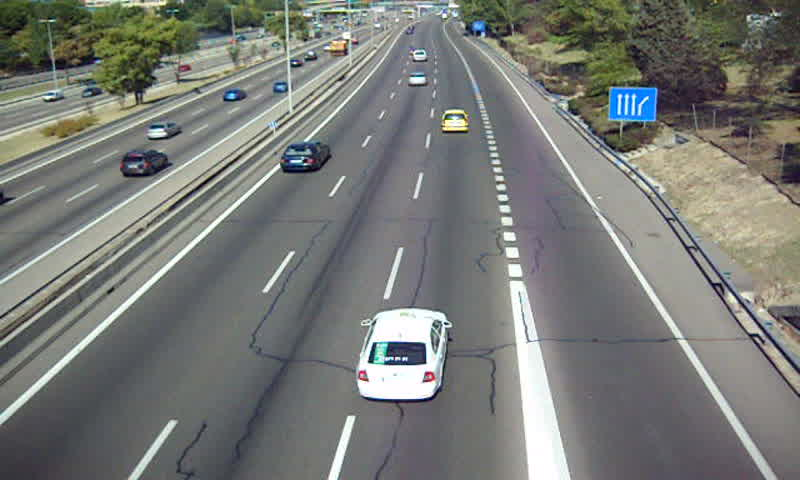car: (358, 308, 452, 400), (281, 143, 328, 171), (441, 109, 469, 134), (408, 70, 428, 87)
